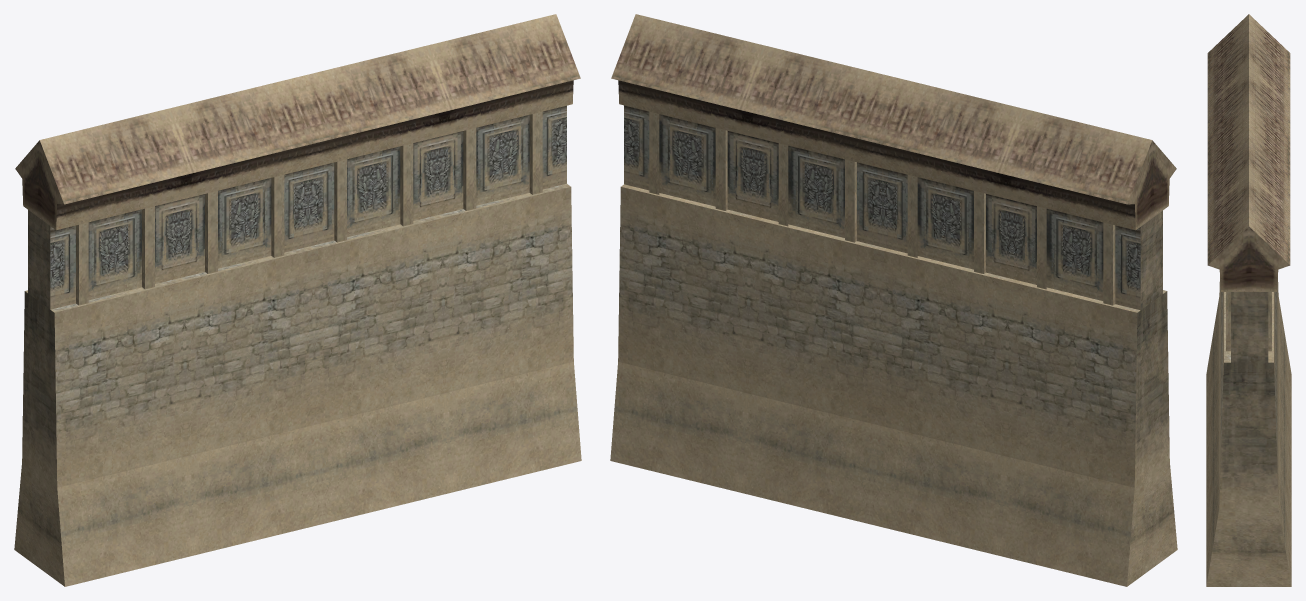
Rendered from desert-middledam-02_lod_01.fbx.
3 views of the same model, side by side, from view 1: azimuth 30°, elevation 25°; view 2: azimuth 150°, elevation 25°; view 3: azimuth 270°, elevation 25° (orthographic). The views are drawn at different scales.
Parts seen in each view (by area): view 1: desert-middledam-02; view 2: desert-middledam-02; view 3: desert-middledam-02.
Part boxes in pixels (bbox=[...]): desert-middledam-02: bbox=[14, 14, 581, 586]; desert-middledam-02: bbox=[610, 14, 1177, 586]; desert-middledam-02: bbox=[1206, 14, 1291, 586].
Bounding box in the file's own units: 10 × 7.92 × 1.7.
